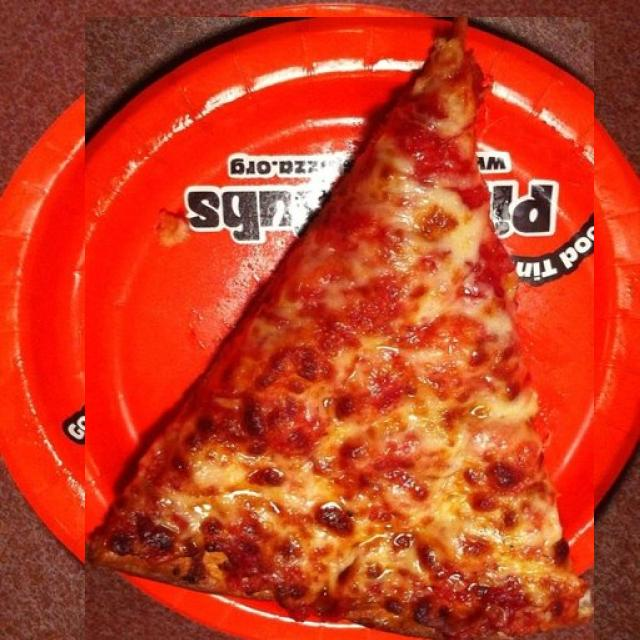pizza: (85, 17, 594, 640)
